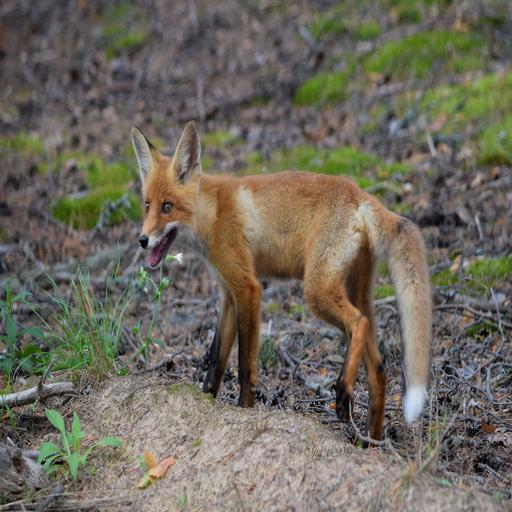Fox: (126, 128, 442, 452)
